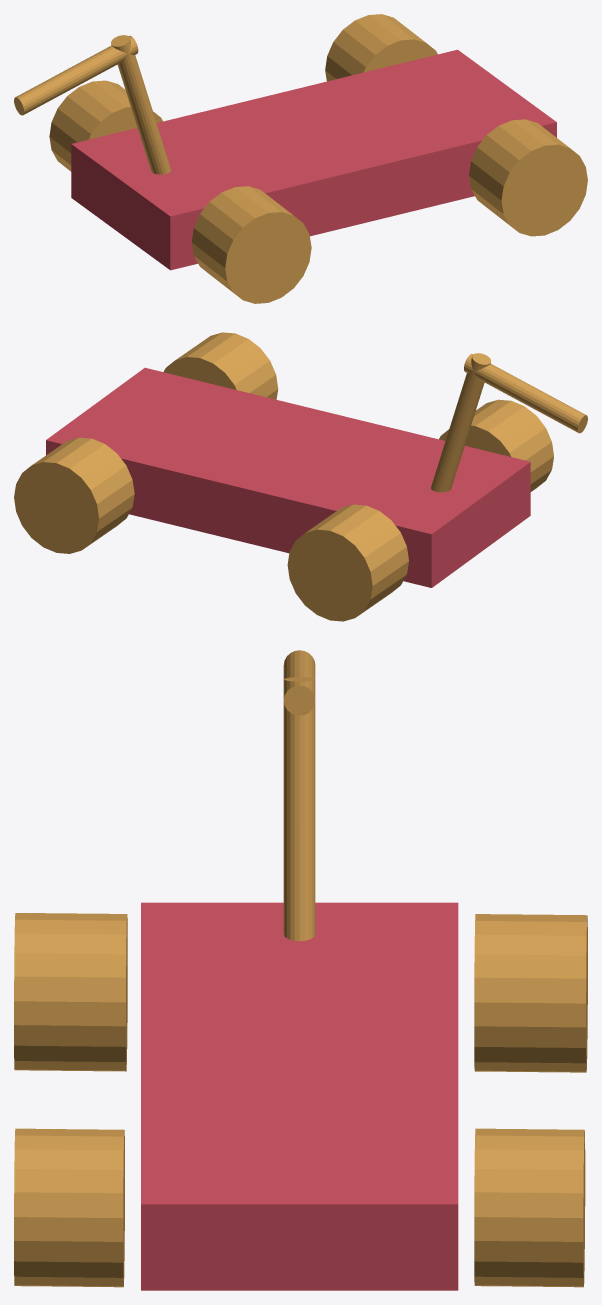
Rendered from lazik.glb.
3 renders of one model, top to bottom at view 1: azimuth 30°, elevation 25°; view 2: azimuth 150°, elevation 25°; view 3: azimuth 270°, elevation 25°, orthographic. The views are drawn at different scales.
Visible parts, largest first — view 1: Mesh_Mesh_head_geo.001_lambert2SG.001; view 2: Mesh_Mesh_head_geo.001_lambert2SG.001; view 3: Mesh_Mesh_head_geo.001_lambert2SG.001.
Part boxes in pixels (x1,y1,x2,y2): Mesh_Mesh_head_geo.001_lambert2SG.001: [14, 14, 587, 303]; Mesh_Mesh_head_geo.001_lambert2SG.001: [14, 332, 587, 621]; Mesh_Mesh_head_geo.001_lambert2SG.001: [14, 650, 587, 1290].
Bounding box in the file's own units: 57 × 23.8 × 36.17.
